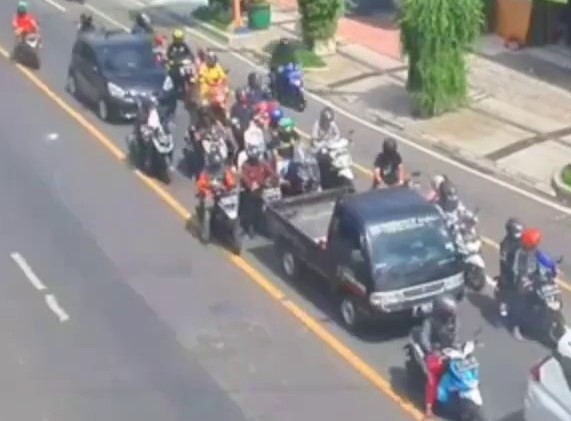car: (267, 176, 447, 327), (66, 30, 176, 123)
motorbike: (493, 217, 568, 343), (408, 297, 483, 421), (429, 178, 486, 292), (194, 150, 245, 257), (234, 144, 281, 238), (128, 94, 174, 184), (311, 107, 356, 194), (272, 123, 312, 199), (266, 38, 306, 111), (186, 101, 223, 177), (194, 49, 227, 122), (166, 29, 197, 105), (15, 3, 44, 70)
